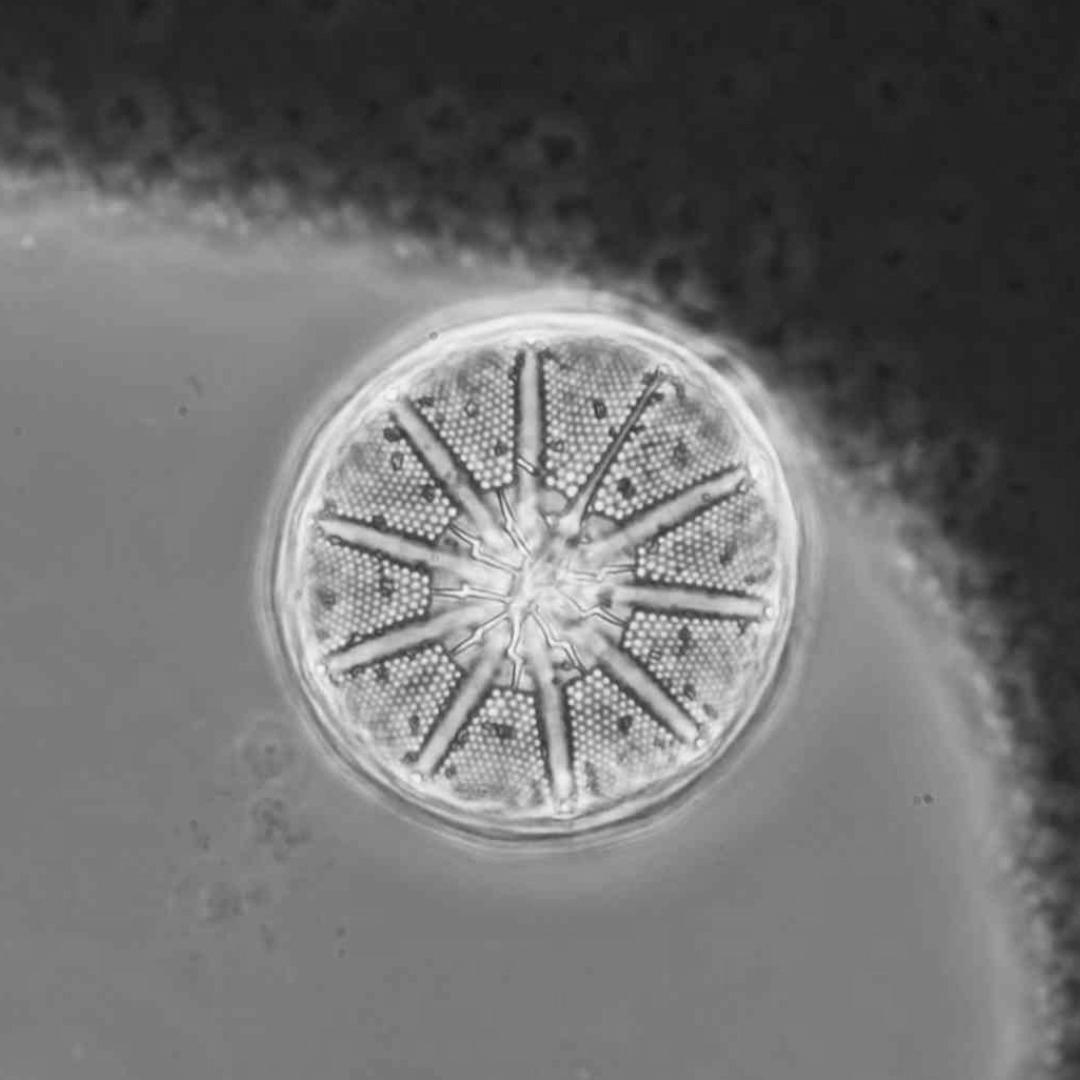asteromphalus_hyalinus: (294, 327, 791, 827)
